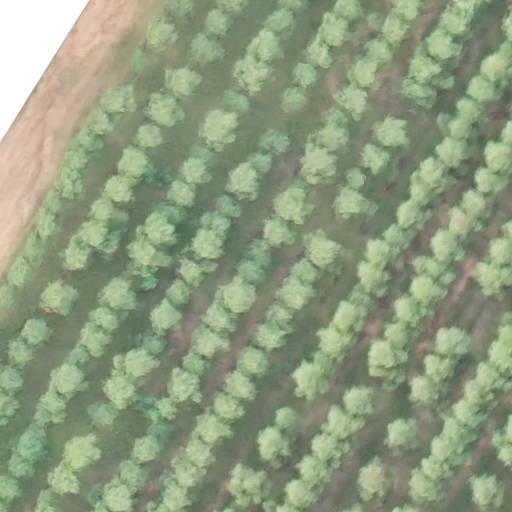eucalipto: (271, 184, 318, 228), (225, 461, 269, 504), (363, 340, 407, 383), (223, 165, 266, 208), (302, 232, 346, 273), (352, 257, 397, 297), (199, 110, 242, 151), (37, 280, 79, 321), (213, 276, 255, 317), (466, 473, 510, 512), (273, 277, 318, 314), (329, 188, 375, 224), (48, 364, 89, 404), (407, 52, 452, 88), (290, 360, 329, 401), (422, 23, 462, 61), (472, 260, 512, 298), (14, 423, 51, 464), (431, 6, 475, 40), (412, 255, 457, 288), (103, 368, 141, 407), (313, 115, 352, 153), (191, 326, 232, 362), (320, 406, 362, 441), (125, 238, 168, 272), (410, 172, 447, 211), (232, 56, 270, 93), (254, 425, 291, 463), (408, 465, 446, 502), (299, 149, 335, 188), (408, 274, 447, 310), (121, 349, 161, 384), (233, 344, 271, 380), (218, 370, 258, 404), (100, 280, 141, 313), (453, 400, 494, 433), (116, 147, 154, 182), (463, 376, 501, 411), (355, 462, 389, 501), (393, 80, 435, 111), (143, 16, 179, 52), (258, 123, 294, 159), (331, 298, 368, 333), (473, 363, 510, 398), (167, 367, 201, 405), (114, 461, 152, 495), (97, 478, 135, 512), (373, 116, 411, 150), (63, 434, 102, 467), (247, 321, 287, 353), (168, 61, 204, 96), (316, 325, 353, 359), (31, 394, 69, 427), (100, 83, 139, 115), (140, 213, 179, 245), (485, 331, 512, 377), (149, 91, 184, 126), (250, 30, 285, 65), (356, 141, 392, 175), (269, 400, 303, 436), (383, 418, 419, 452), (294, 456, 332, 488), (17, 314, 56, 345), (421, 353, 460, 384), (208, 391, 248, 421), (347, 56, 382, 90), (261, 217, 295, 252), (192, 416, 233, 445), (189, 34, 225, 67), (338, 385, 374, 418), (434, 324, 470, 357), (201, 303, 238, 335), (475, 49, 512, 81), (367, 240, 405, 271), (281, 475, 319, 506), (471, 166, 510, 196), (332, 84, 366, 118), (77, 325, 112, 358), (84, 305, 120, 337), (441, 116, 482, 144), (445, 206, 482, 237), (459, 192, 498, 221), (191, 227, 225, 260), (172, 454, 205, 488), (431, 229, 465, 262), (265, 301, 300, 333), (158, 480, 193, 512), (144, 418, 180, 449), (153, 202, 190, 232), (278, 87, 311, 120), (441, 418, 474, 451), (79, 217, 111, 251), (164, 179, 198, 211), (130, 435, 162, 469), (101, 175, 136, 206), (394, 295, 429, 326), (288, 57, 318, 93), (431, 435, 461, 471), (61, 238, 93, 271), (267, 8, 300, 40), (149, 303, 183, 334), (234, 256, 268, 287), (184, 438, 218, 469), (87, 400, 122, 430), (466, 76, 502, 105), (5, 336, 38, 367), (420, 157, 451, 190), (179, 257, 209, 291), (436, 139, 470, 169), (319, 14, 347, 50), (288, 257, 325, 284), (48, 467, 81, 497), (87, 196, 121, 225), (383, 322, 418, 350), (243, 151, 274, 182), (55, 169, 85, 200), (203, 8, 234, 38), (307, 39, 336, 71), (483, 144, 512, 176), (23, 233, 50, 267), (487, 232, 512, 268), (200, 211, 231, 240), (247, 238, 275, 270), (180, 160, 213, 187), (214, 194, 244, 223), (398, 202, 427, 232), (382, 217, 412, 246), (86, 108, 115, 137), (409, 374, 438, 403), (5, 456, 35, 484), (167, 280, 194, 311), (363, 37, 395, 63), (453, 98, 487, 122), (137, 332, 167, 359), (308, 433, 340, 458), (130, 50, 154, 82), (329, 1, 365, 22), (9, 257, 32, 289), (79, 130, 106, 157), (135, 123, 162, 150), (421, 457, 450, 482), (1, 364, 24, 394), (179, 351, 207, 375), (341, 165, 369, 188), (158, 396, 180, 425), (383, 20, 409, 44), (388, 1, 422, 19), (37, 214, 60, 238), (219, 1, 253, 17), (167, 1, 199, 18), (65, 148, 89, 169), (1, 395, 20, 421), (275, 1, 312, 14), (44, 192, 62, 215), (500, 117, 512, 147)
